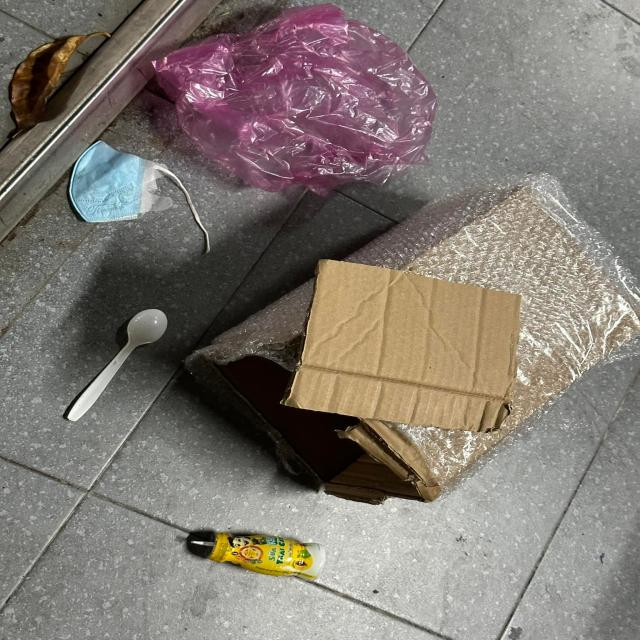bag: (150, 2, 440, 200)
bottle: (186, 530, 327, 580)
cardboard box: (181, 185, 640, 506)
mask: (70, 139, 174, 226)
plastic utensil: (64, 308, 171, 423)
